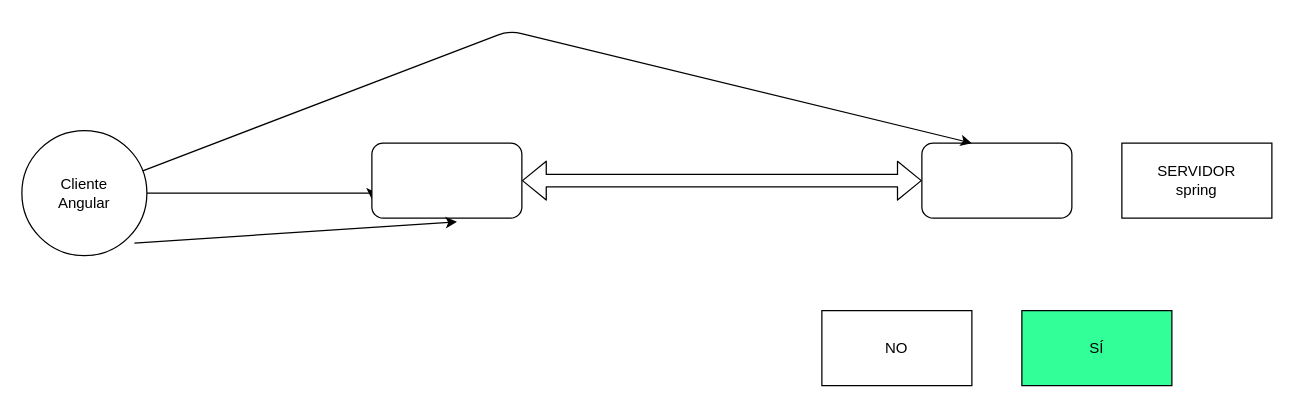
Some shapes in this 1294 by 408 pixel diagram are drawn without their labels. The shapes that lost their labels are listed below. From the top down, each one's box as (x1, y1, x2, y2) in pixels, then its label:
(371, 142, 522, 218): VALIDACIÓN EN CLIENTE
(921, 142, 1072, 218): VALIDACIÓN EN SERVIDOR
